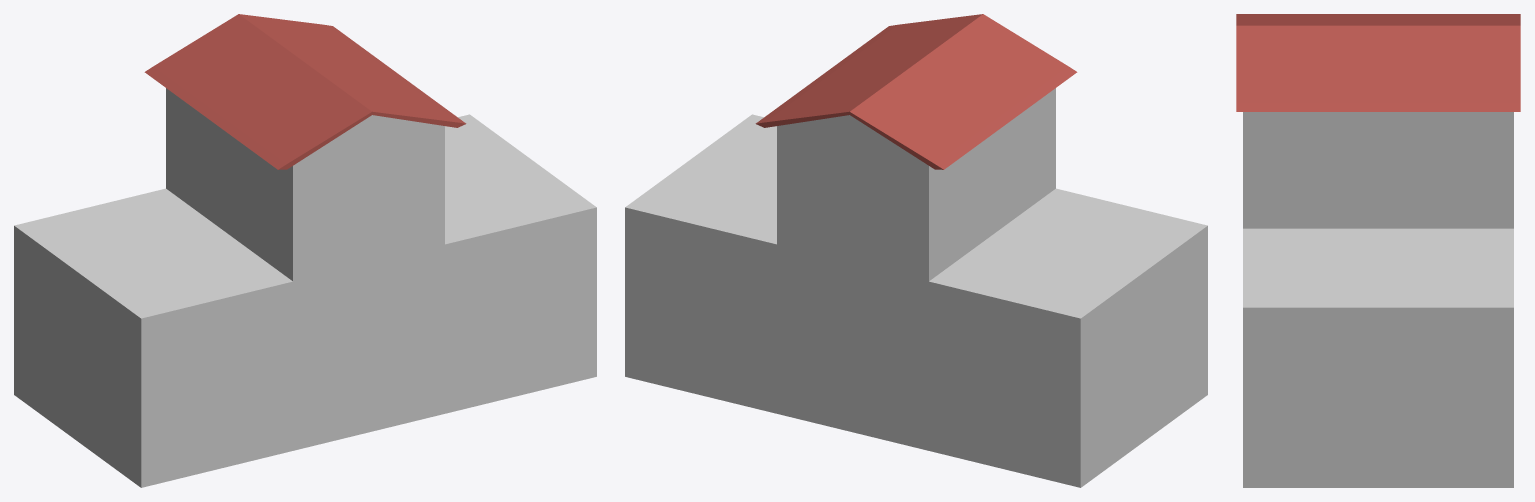
The model's file is hotel3.gltf.
3 views of the same model, side by side, from view 1: azimuth 30°, elevation 25°; view 2: azimuth 150°, elevation 25°; view 3: azimuth 270°, elevation 25° (orthographic). The views are drawn at different scales.
Parts seen in each view (by area): view 1: Cube.101; view 2: Cube.101; view 3: Cube.101.
Part boxes in pixels (x1,y1,x2,y2): Cube.101: [14, 14, 596, 487]; Cube.101: [625, 14, 1207, 487]; Cube.101: [1236, 14, 1520, 487].
Bounding box in the file's own units: 0.414 × 0.2804 × 0.2101.
